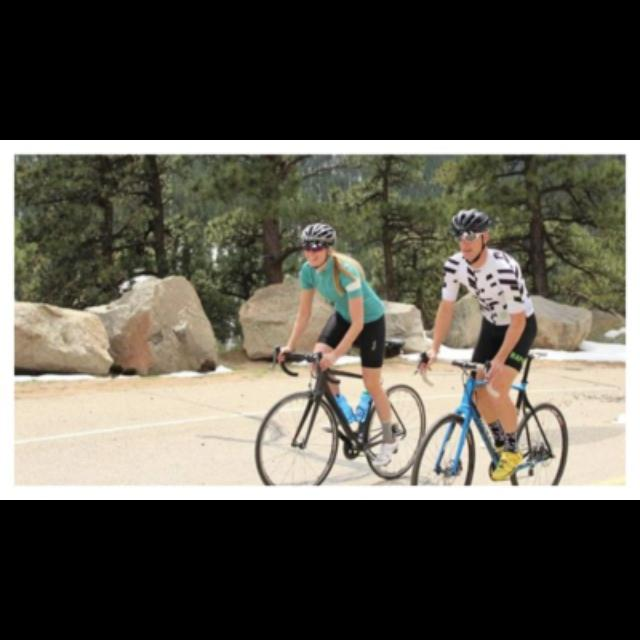With Helmet: (447, 202, 501, 270), (299, 222, 333, 264)
